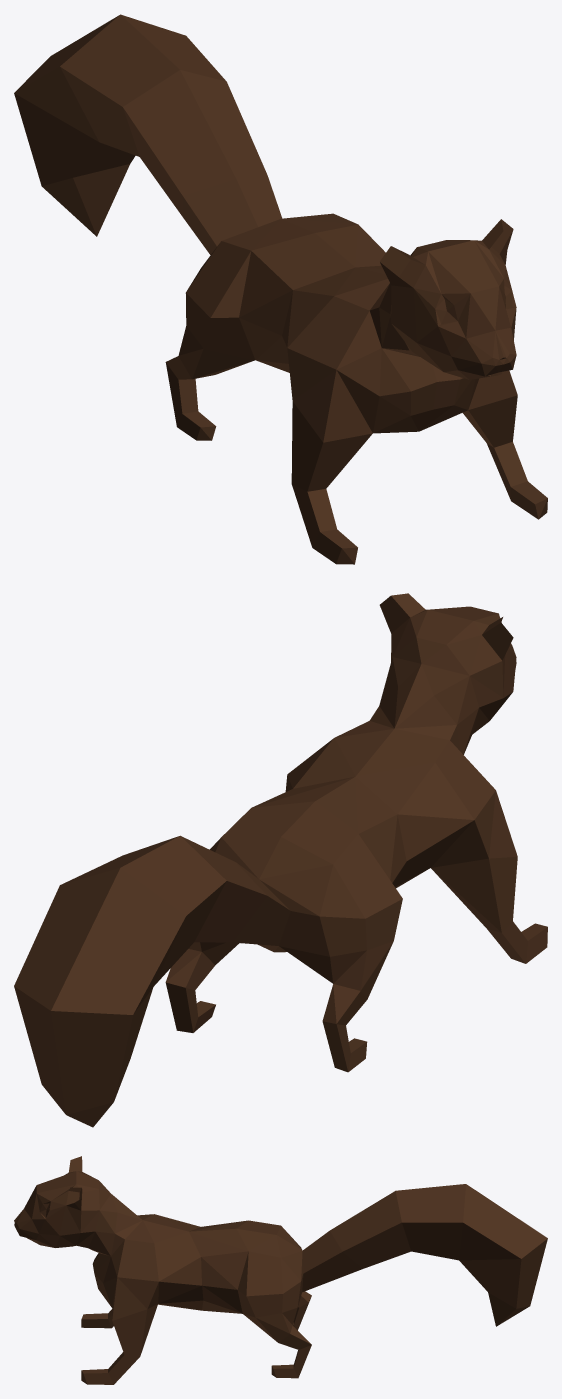
The model's file is Squirrel.FBX.
The picture shows the model from 3 angles, top to bottom: view 1: azimuth 30°, elevation 25°; view 2: azimuth 150°, elevation 25°; view 3: azimuth 270°, elevation 25°; orthographic projection. The views are drawn at different scales.
Visible parts, largest first — view 1: Squirrel; view 2: Squirrel; view 3: Squirrel.
Part boxes in pixels (x1,y1,x2,y2): Squirrel: [14, 14, 547, 564]; Squirrel: [14, 593, 547, 1127]; Squirrel: [14, 1156, 547, 1384].
Size of the model in its own units: 61.1 by 84.5 by 224.
